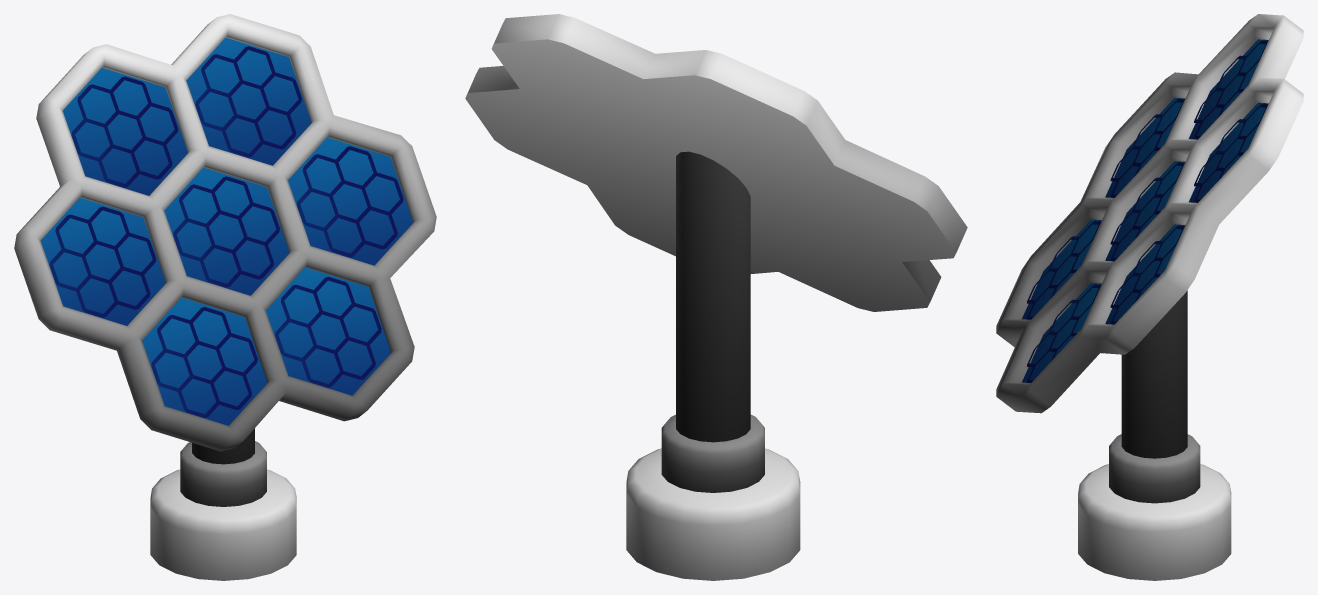
The model's file is Solar_Panel_01.fbx.
The picture shows the model from 3 angles, left to right: view 1: azimuth 30°, elevation 25°; view 2: azimuth 150°, elevation 25°; view 3: azimuth 270°, elevation 25°; orthographic projection. The views are drawn at different scales.
Parts seen in each view (by area): view 1: Solar_Panel_01; view 2: Solar_Panel_01; view 3: Solar_Panel_01.
Part boxes in pixels (x1,y1,x2,y2): Solar_Panel_01: (14, 14, 436, 580); Solar_Panel_01: (465, 14, 967, 580); Solar_Panel_01: (996, 14, 1303, 580).
Bounding box in the file's own units: 303 × 353 × 198.
